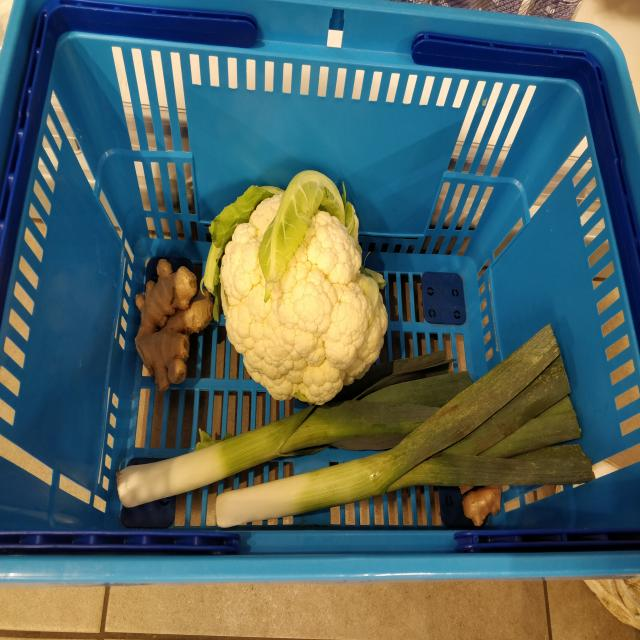cauliflower: (214, 175, 389, 408)
ginger: (135, 259, 213, 391)
leek: (216, 325, 595, 526), (117, 350, 471, 508)
